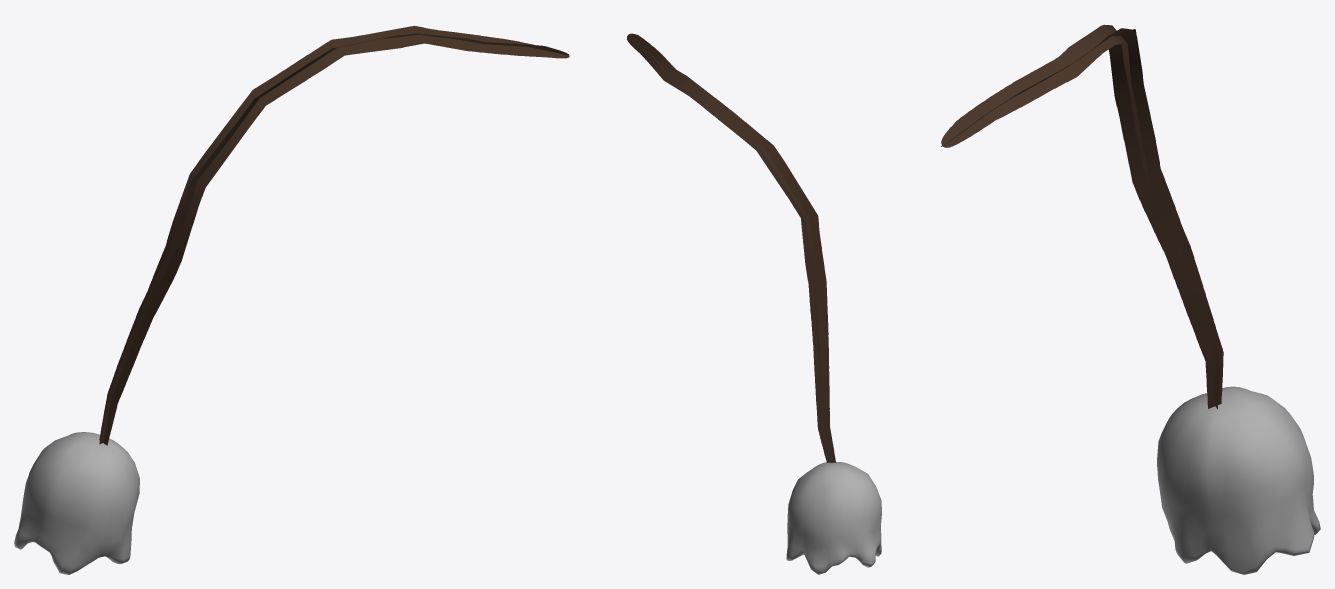
The model's file is MeltBulbPlant_GR.fbx.
3 views of the same model, side by side, from view 1: azimuth 30°, elevation 25°; view 2: azimuth 150°, elevation 25°; view 3: azimuth 270°, elevation 25° (orthographic). The views are drawn at different scales.
Parts seen in each view (by area): view 1: MeltBulb_LP2; view 2: MeltBulb_LP2; view 3: MeltBulb_LP2.
Boxes of the visible parts, x1,y1,x2,y2 form: MeltBulb_LP2: (14, 25, 569, 574); MeltBulb_LP2: (627, 33, 881, 574); MeltBulb_LP2: (941, 24, 1320, 574).
Size of the model in its own units: 0.8972 by 0.989 by 0.5466.
2 materials, 1 textured.
